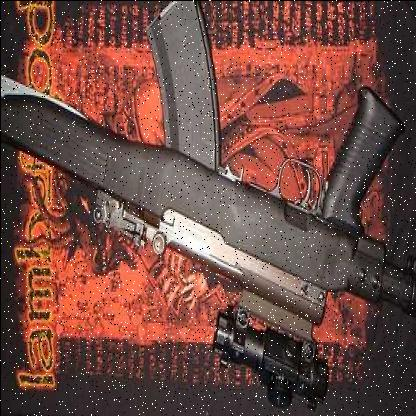rifle: (1, 4, 413, 398)
